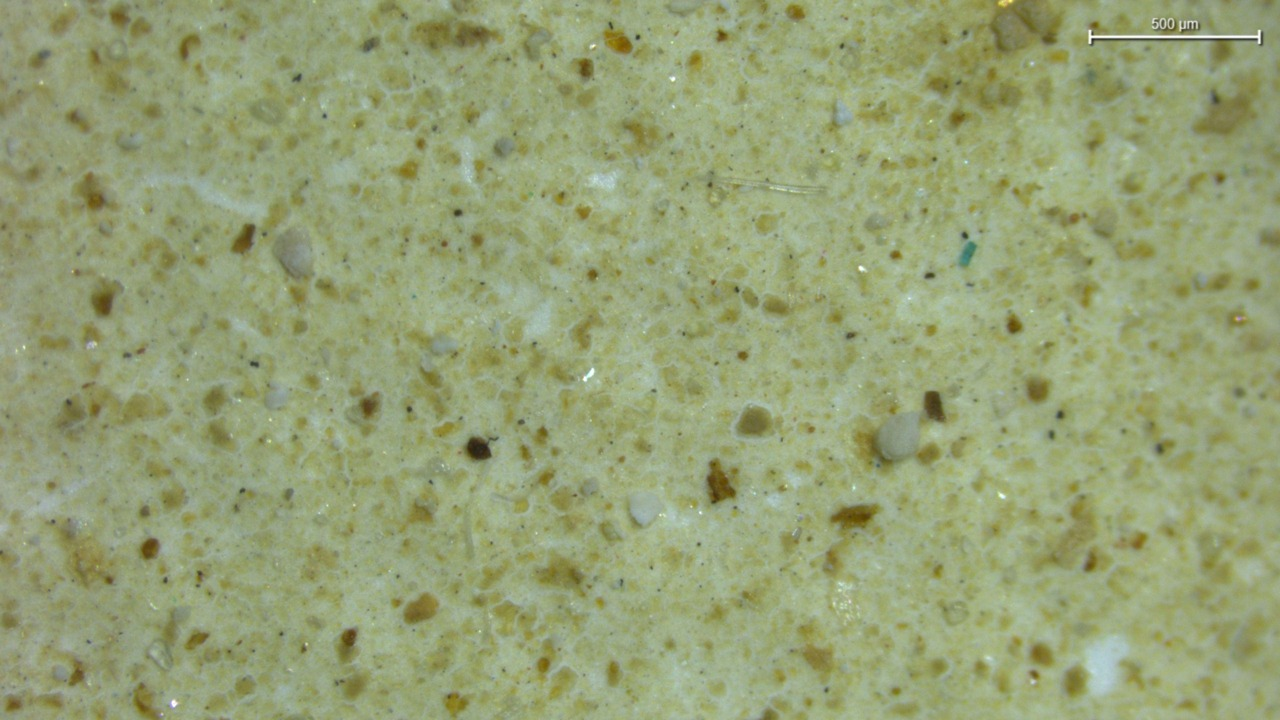microplastic_fragment: (875, 411, 922, 461), (274, 228, 312, 279), (629, 492, 663, 526)
